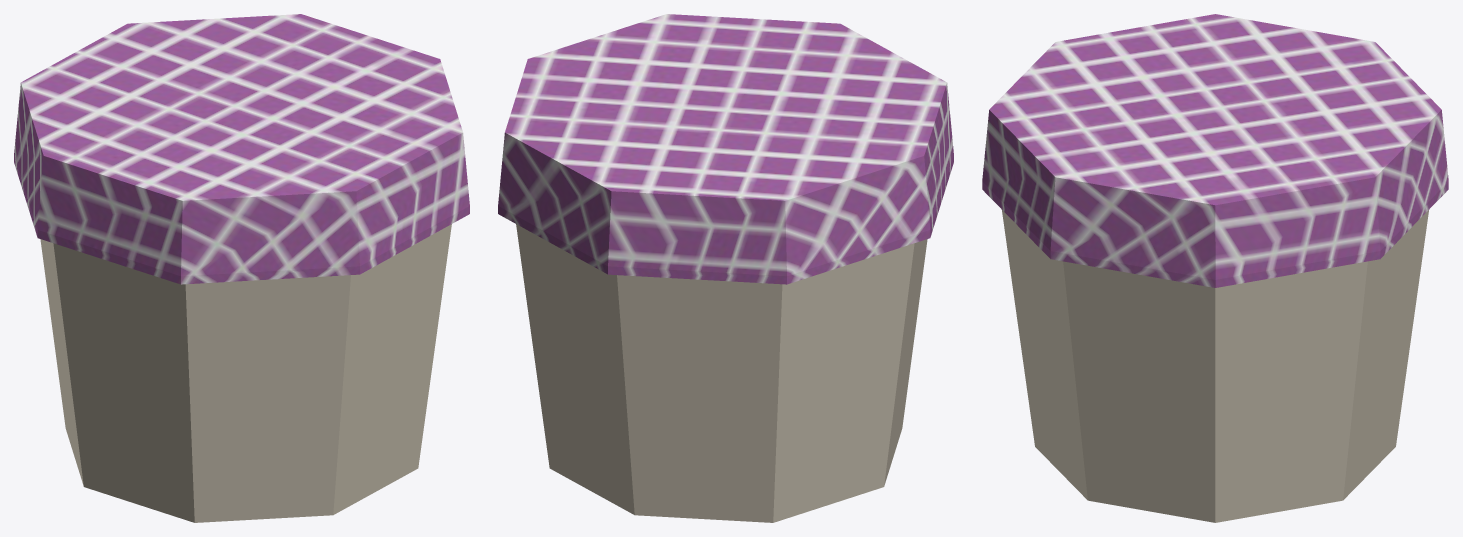
File: confiture.fbx
3 views of the same model, side by side, from view 1: azimuth 30°, elevation 25°; view 2: azimuth 150°, elevation 25°; view 3: azimuth 270°, elevation 25° (orthographic).
Parts seen in each view (by area): view 1: confiture; view 2: confiture; view 3: confiture.
Boxes of the visible parts, x1,y1,x2,y2 form: confiture: [14, 14, 469, 522]; confiture: [498, 14, 953, 522]; confiture: [982, 14, 1448, 522].
Bounding box in the file's own units: 24.57 × 24.57 × 19.59.
Materials: 2 (1 with a texture image).
